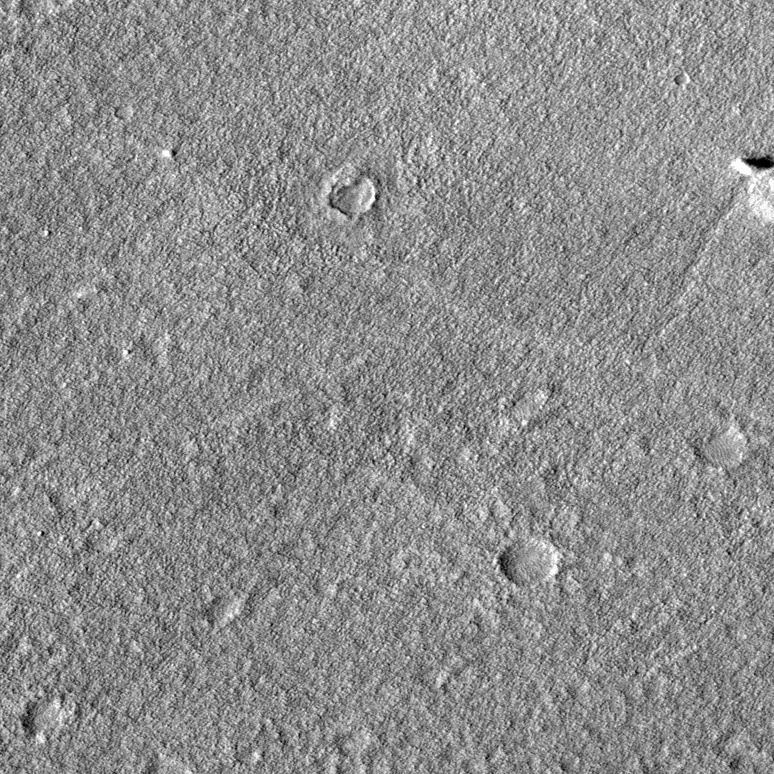dust_devil: (730, 153, 774, 177)
